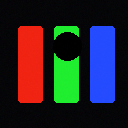2 circle: (53, 32, 81, 60)
